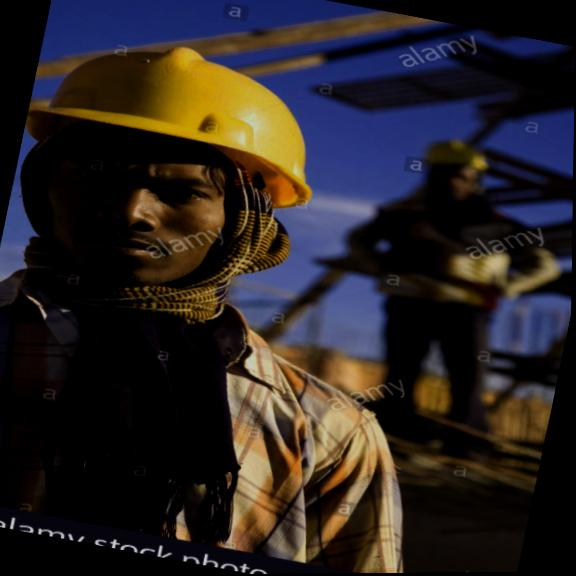no_safety_vest: (0, 261, 470, 576), (331, 167, 549, 330)
